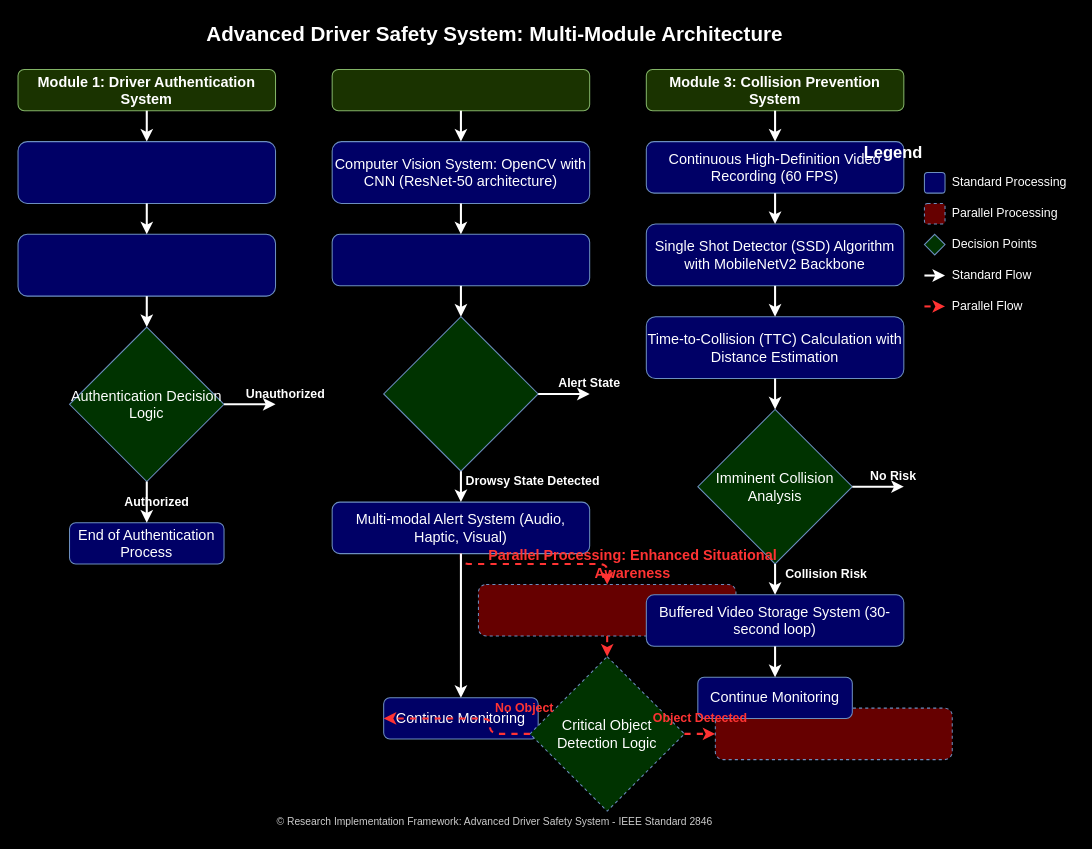
Image size: 1092x849. Some labels were removed from this diagram. Here are the shapes that lost their labels. From the top down, the box of each, then its label:
(331, 68, 590, 111): Module 2: Driver State Monitoring
(17, 141, 276, 203): YOLO v4 Deep Neural Network for Real-time Face Detection (98.7% accuracy)
(17, 233, 276, 296): Secure Wi-Fi Communication Protocol (AES-256) for Unauthorized Access Alert
(331, 233, 590, 286): Real-time Eye Aspect Ratio (EAR) and Head Pose Analysis
(383, 316, 538, 471): Drowsiness Classification Algorithm
(477, 583, 736, 636): Parallel Object Detection Process (YOLO v5)
(714, 707, 952, 760): High-Priority Warning System Integration
